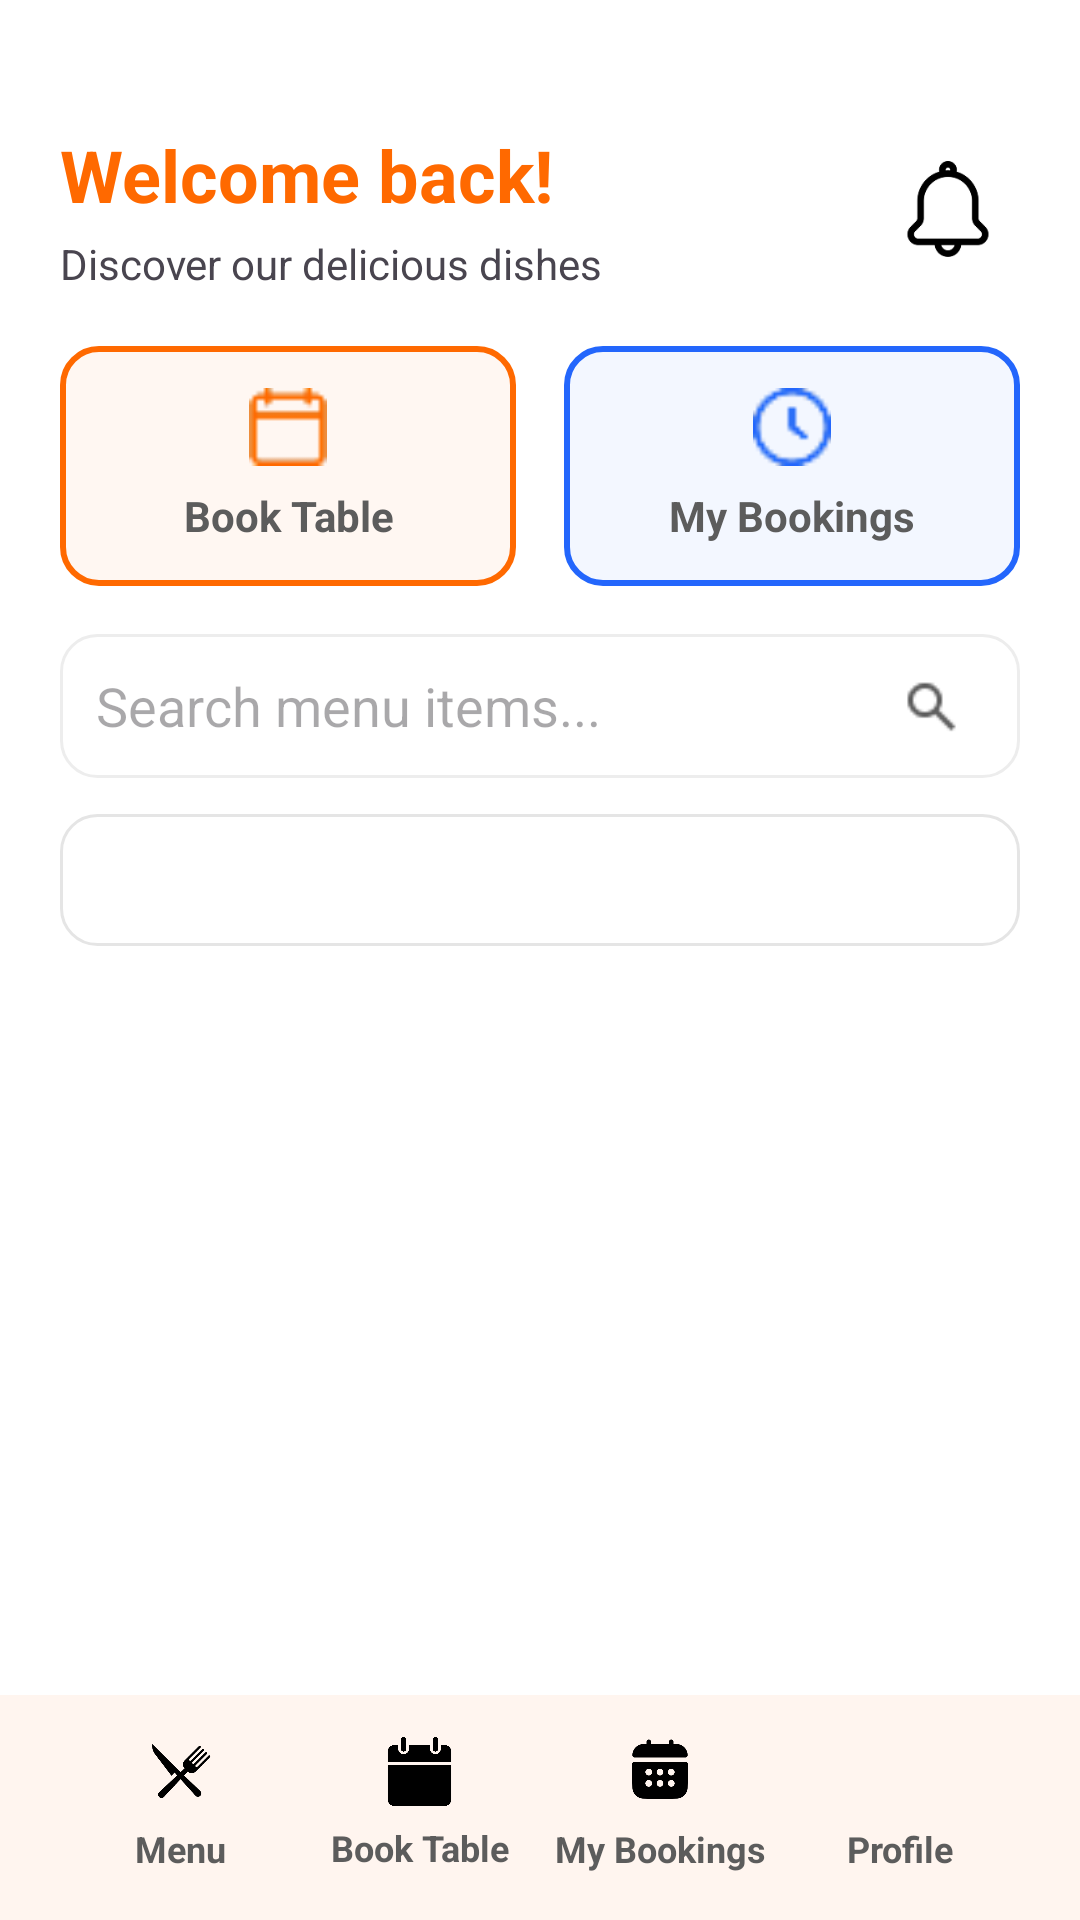

Icon click points for this 1080w x 1920h phone screenshot, format point (x, y):
bell: point (948, 209)
